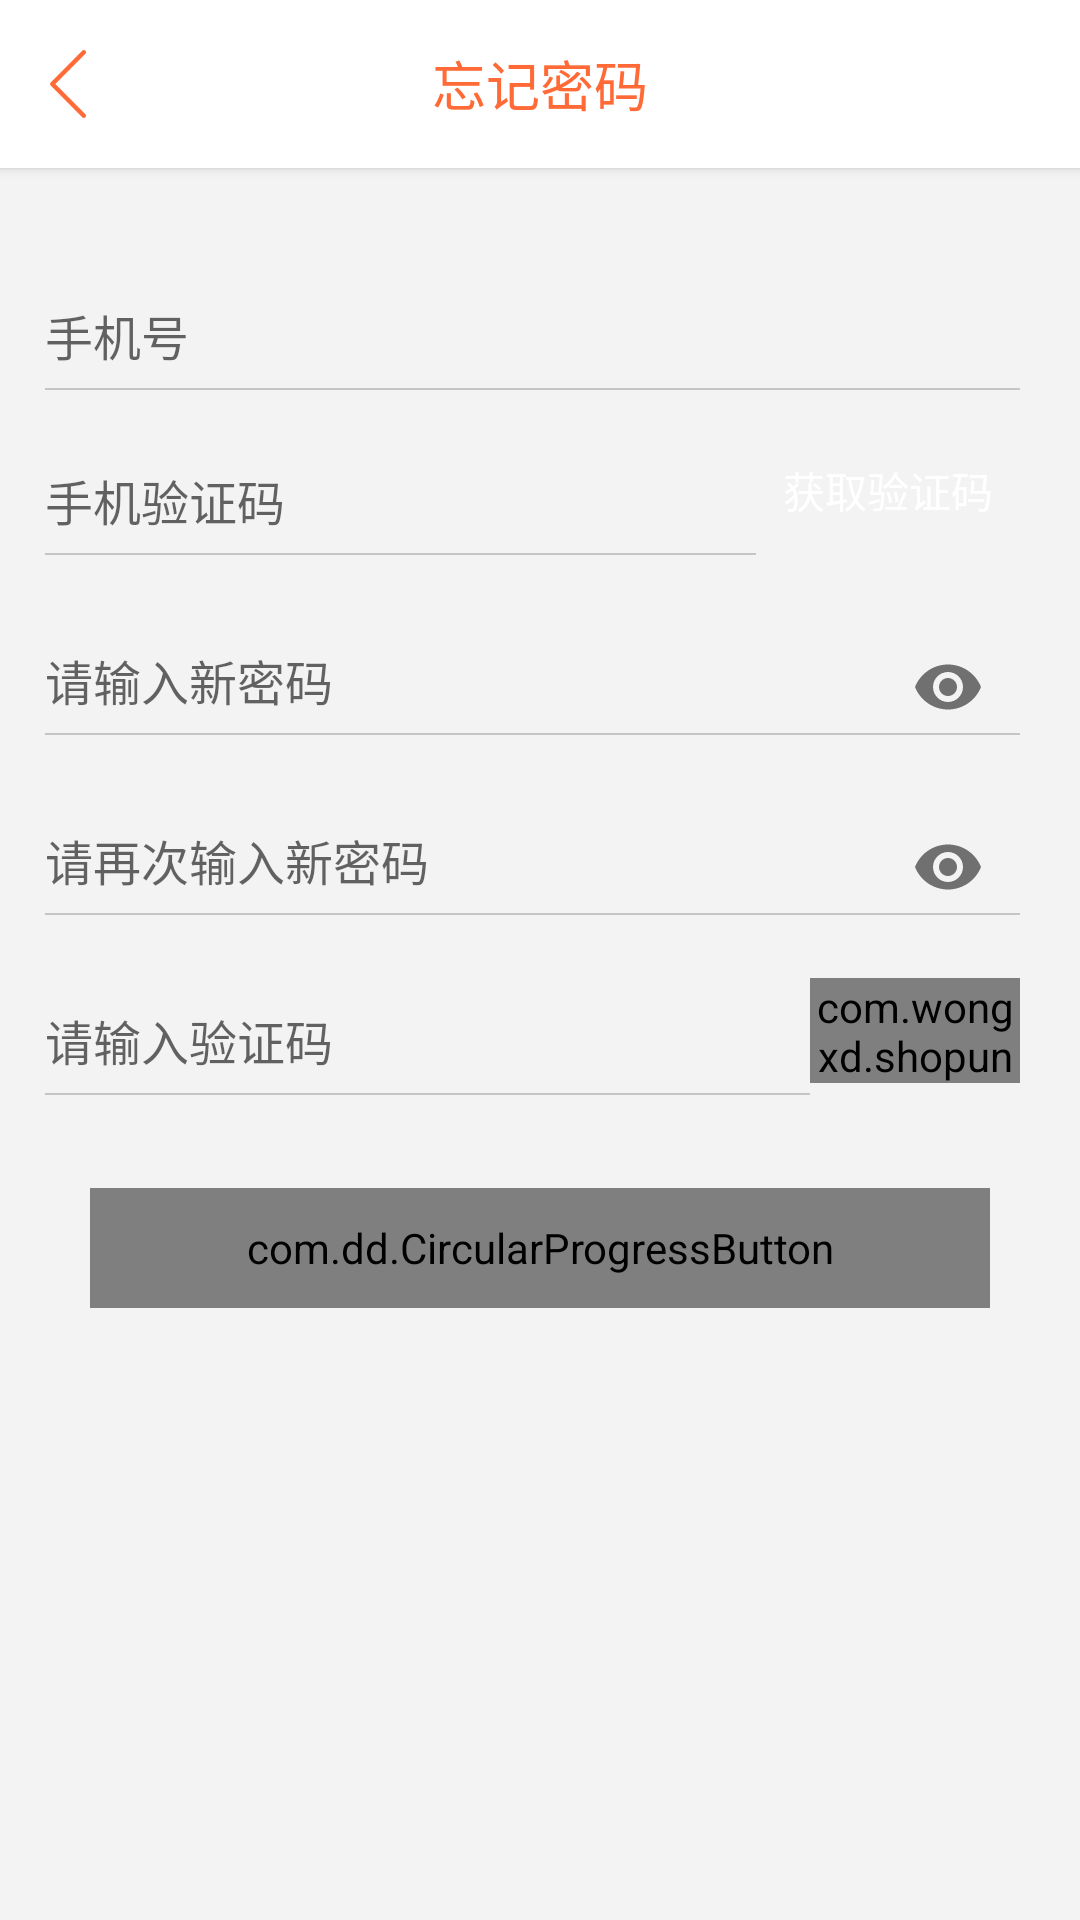

Where icons sit on this 1080 × 1920 app screen, as (x1, y1, x2, y2):
return: (50, 50, 86, 118)
